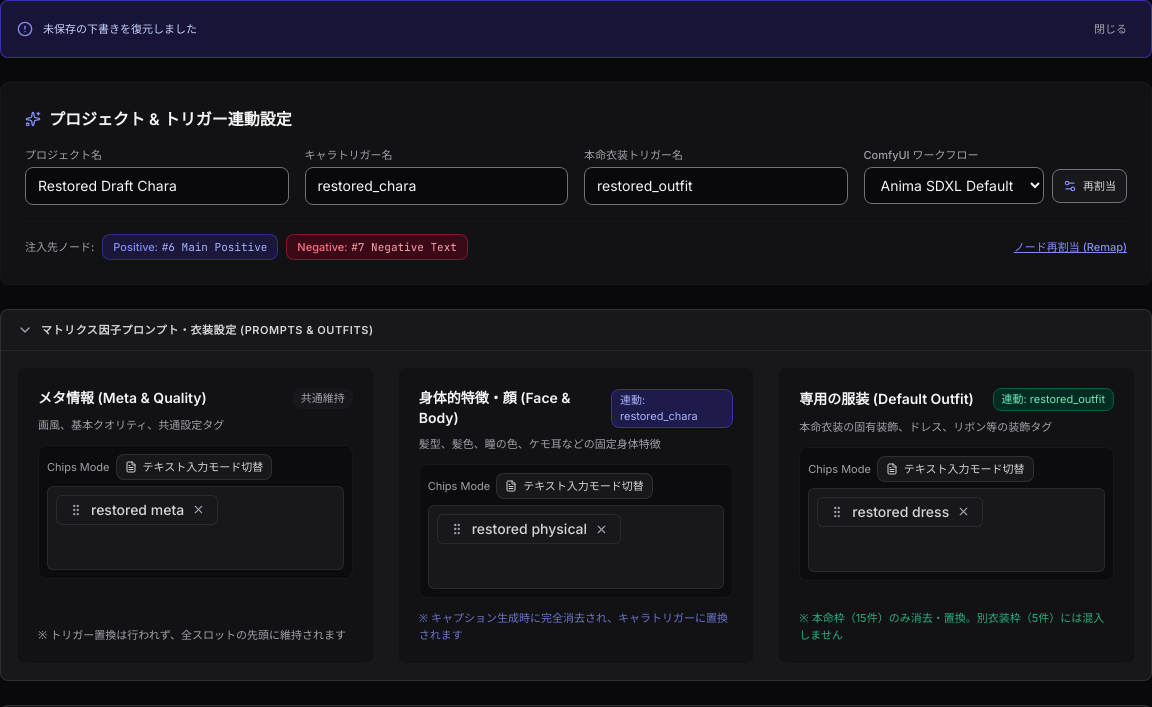
Test: MatrixGenerationStep › restores draft and displays draft-restored-alert when a newer draft exists in sessionStorage (AC-3)
Expected: the element with test id "draft-restored-alert" is shown, [0,0,1151,58]
Expected: the element with test id "draft-restored-alert" shows "未保存の下書きを復元しました", [43,22,197,36]
# Dismiss alert
Click the button "閉じる".
click(1110, 29)  # box [1086,17,1135,41]
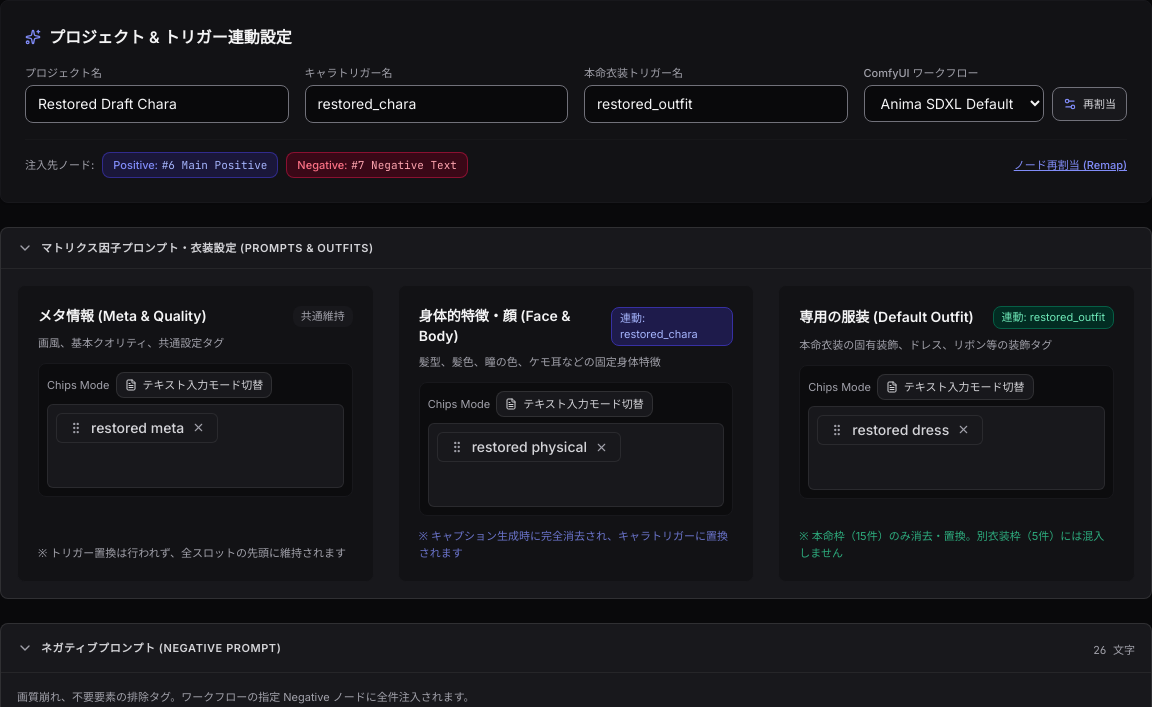
Now the element with test id "draft-restored-alert" is gone
